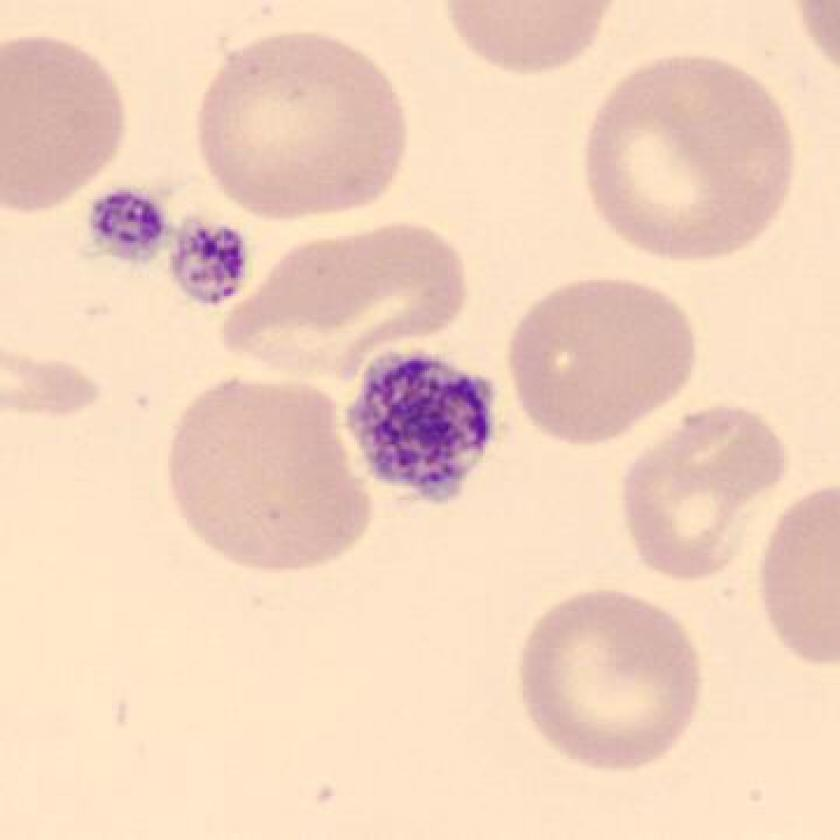platelets: (328, 337, 512, 513), (167, 214, 258, 320), (80, 177, 181, 272)
